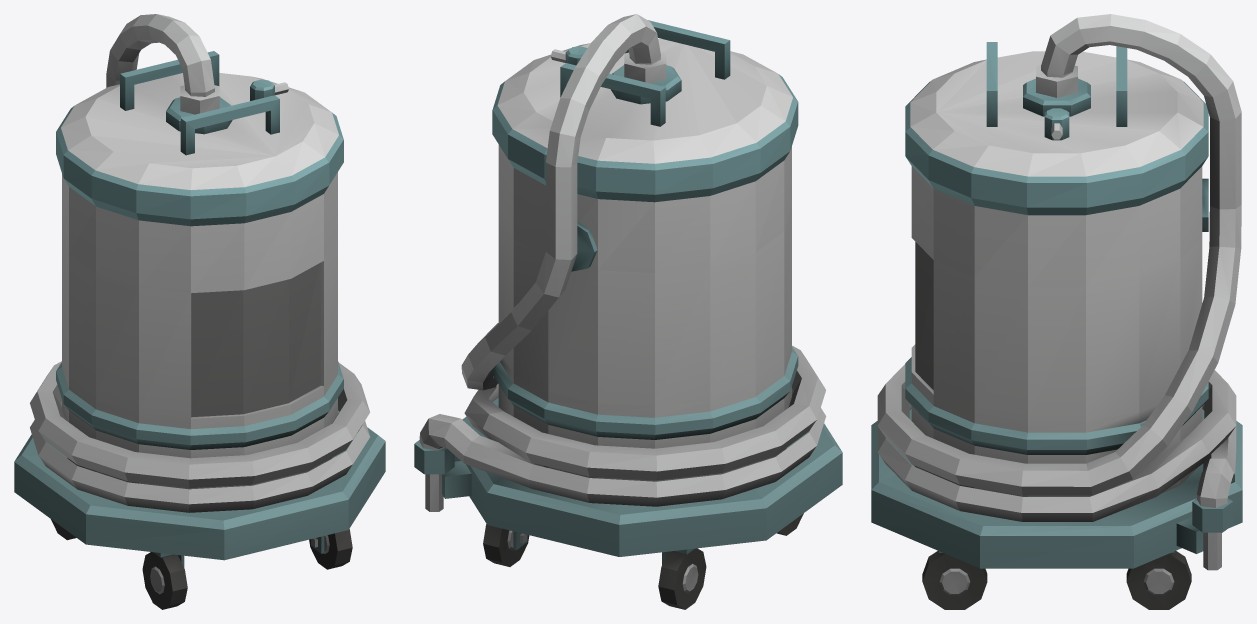
The model's file is dewar.glb.
3 views of the same model, side by side, from view 1: azimuth 30°, elevation 25°; view 2: azimuth 150°, elevation 25°; view 3: azimuth 270°, elevation 25° (orthographic). The views are drawn at different scales.
Visible parts, largest first — view 1: dewar; view 2: dewar; view 3: dewar.
Boxes of the visible parts, <box> form: dewar: <box>14,14,385,609</box>; dewar: <box>414,14,842,609</box>; dewar: <box>871,14,1242,609</box>.
Size of the model in its own units: 0.6 by 0.9779 by 0.6.
